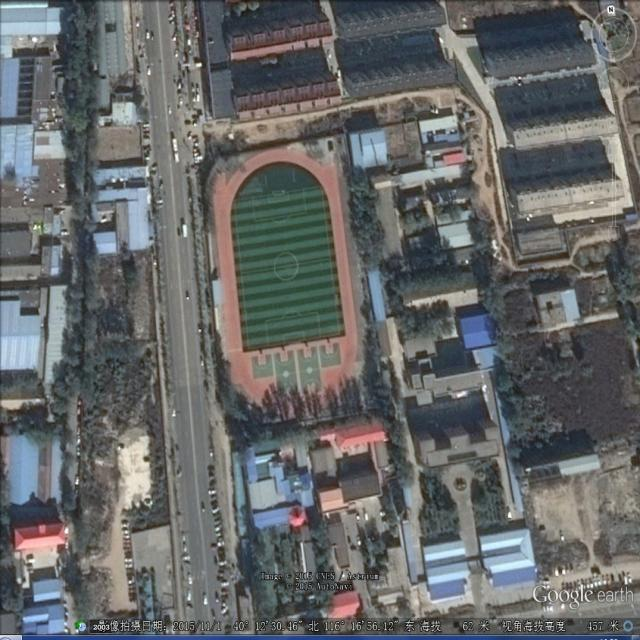playground: (210, 147, 362, 425)
